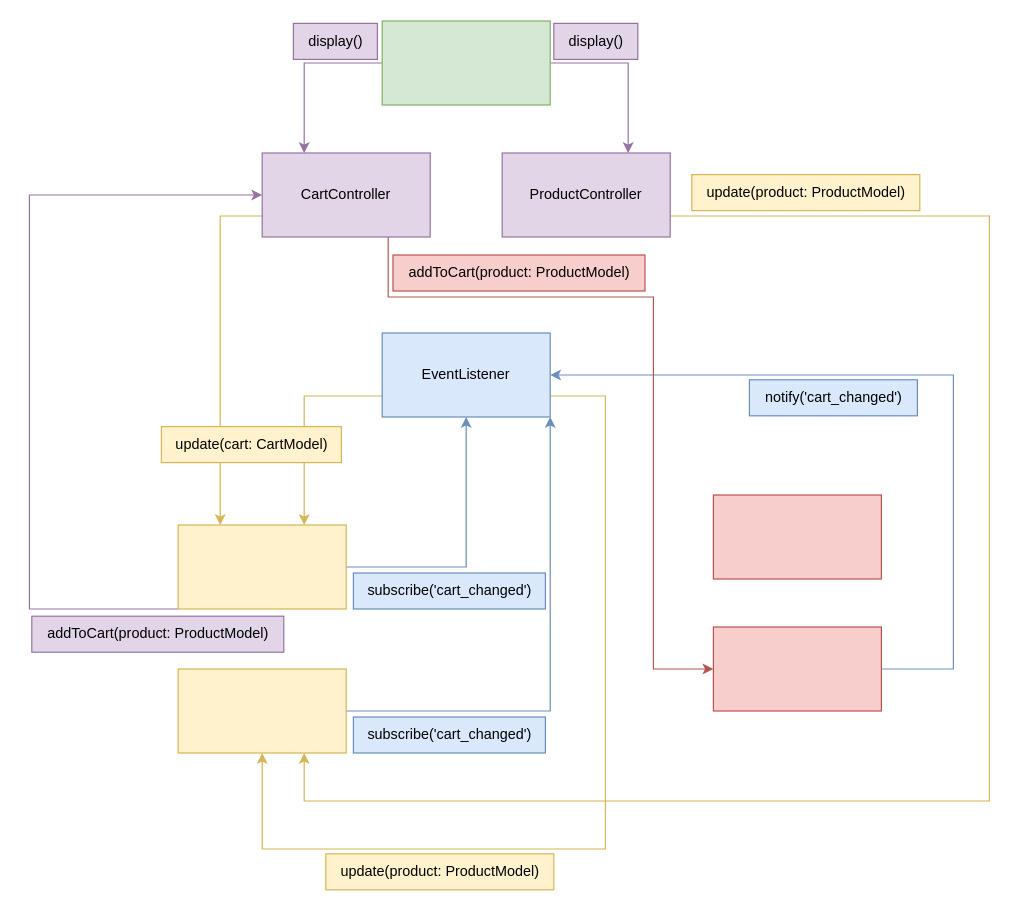
Some shapes in this 1020 by 911 pixel diagram are drawn without their labels. The centre of each missing label's shape, as x and y in pixels:
"App" goes at (x=465, y=62).
"CartModel" goes at (x=796, y=668).
"CartView" goes at (x=261, y=566).
"ProductListView" goes at (x=261, y=710).
"ProductModel" goes at (x=796, y=536).
